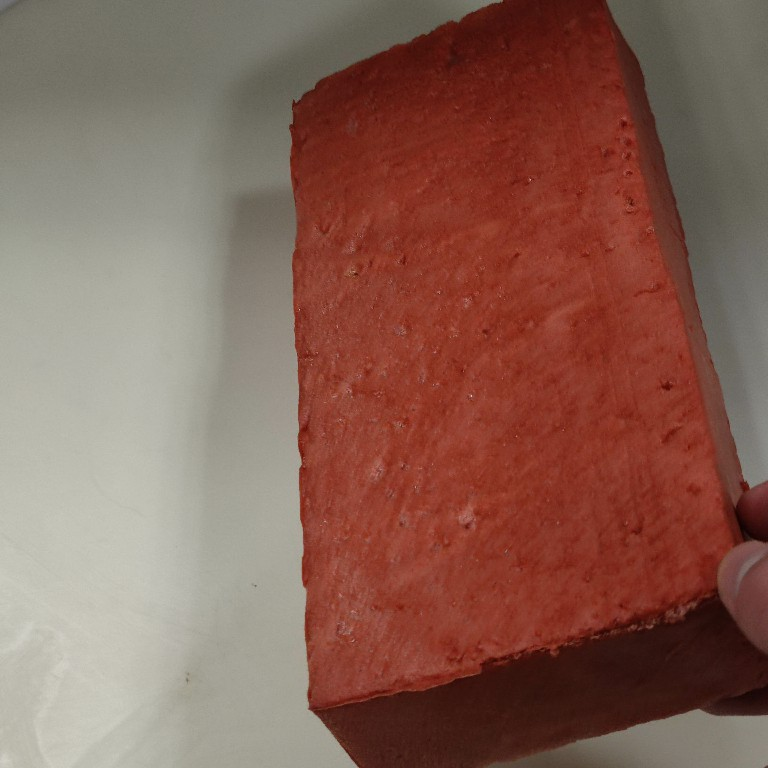brick: (282, 1, 768, 768)
